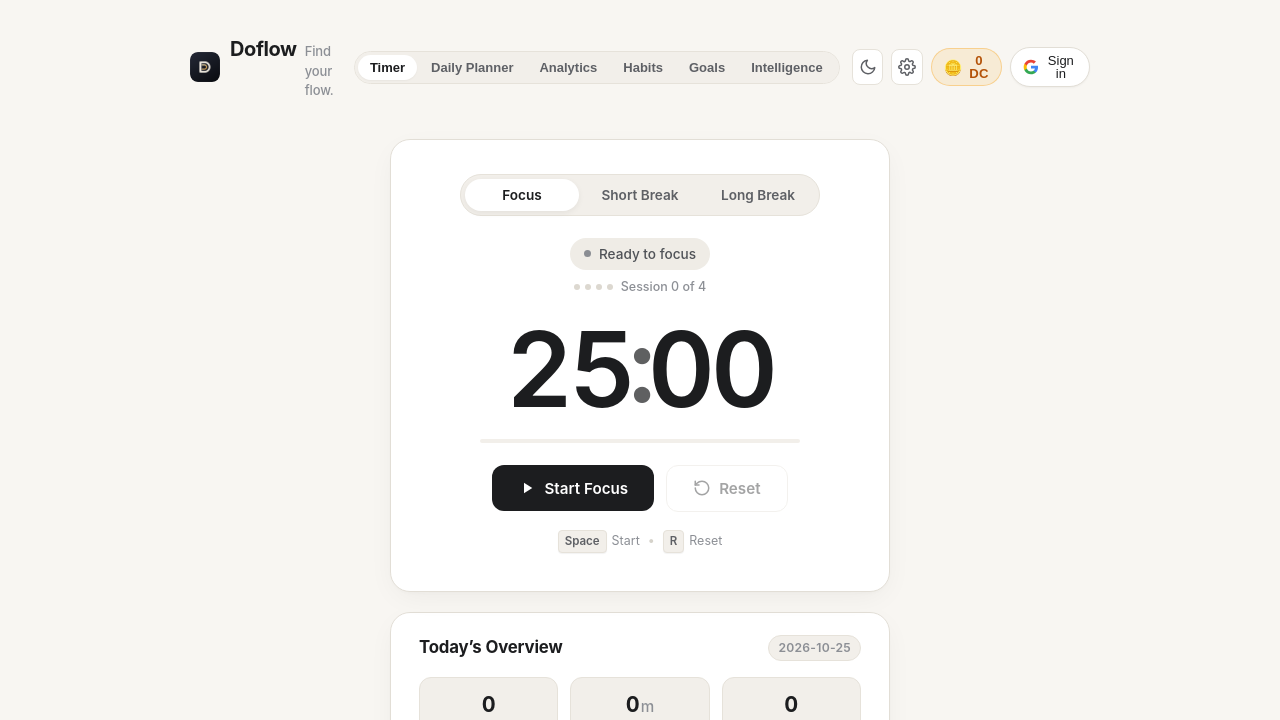
Scenario: Final Quality Assurance Audit Suite › 1. verifies focus timer full lifecycle (accuracy, pause, resume, reset, exact completion)
Expected: the element with test id "countdown-display" reads "25 : 00", [506,317,774,421]
Click the button with test id "start-button": (573, 488) [492,465,654,511]
Wait 10000 ms
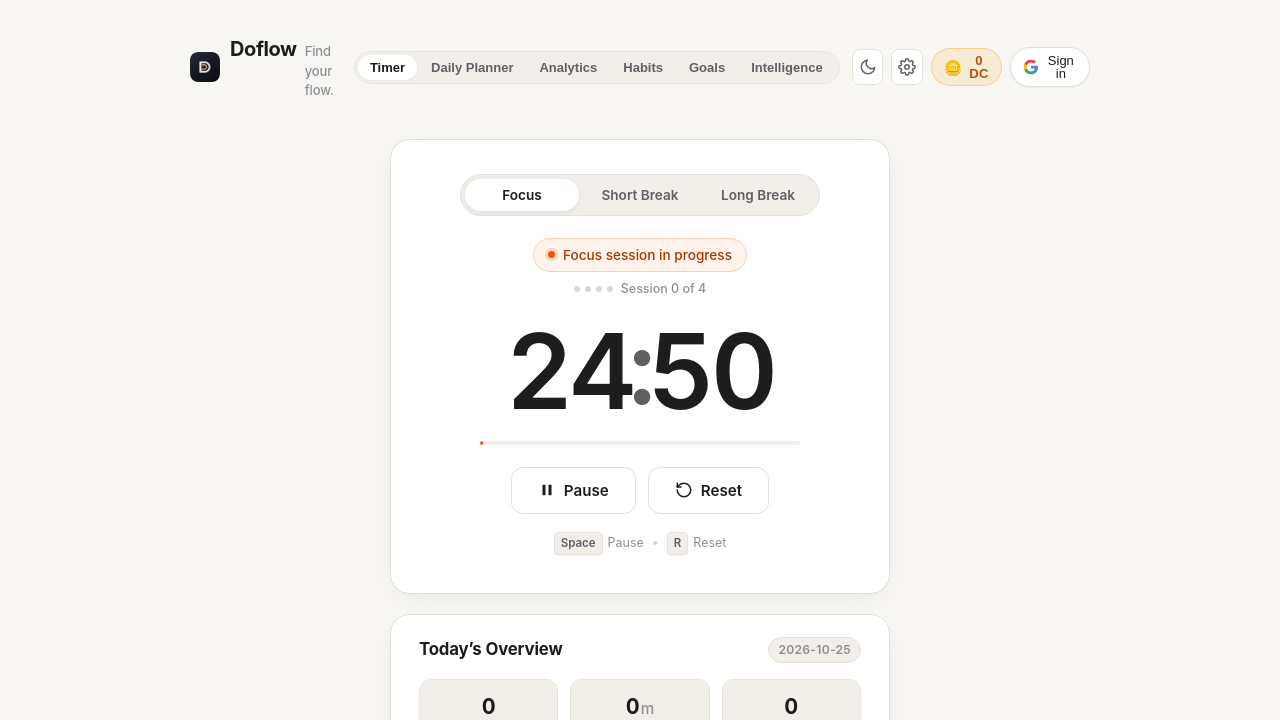
Now the element with test id "countdown-display" reads "24 : 50", box [506,319,774,423]
Click the button with test id "pause-button": (573, 490) [511,467,636,514]
Wait 5000 ms
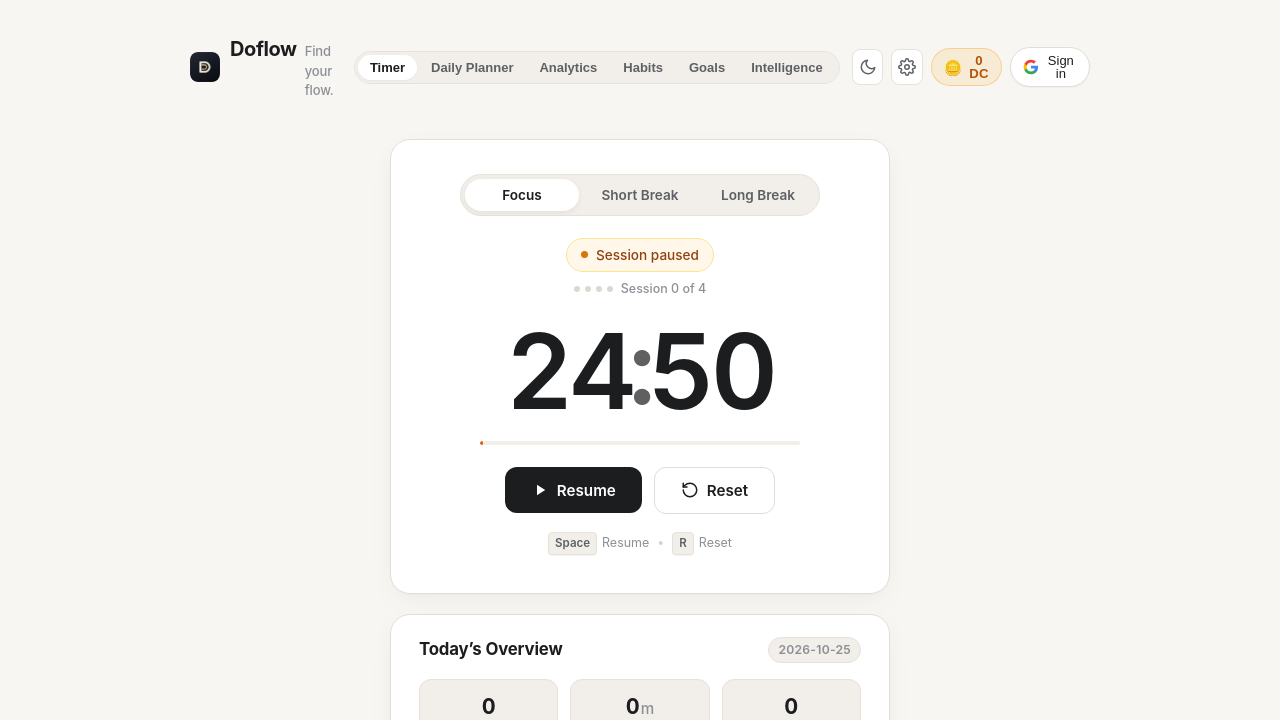
Now the element with test id "countdown-display" reads "24 : 50", box [506,319,774,423]
Click the button with test id "resume-button": (573, 490) [505,467,642,513]
Wait 5000 ms
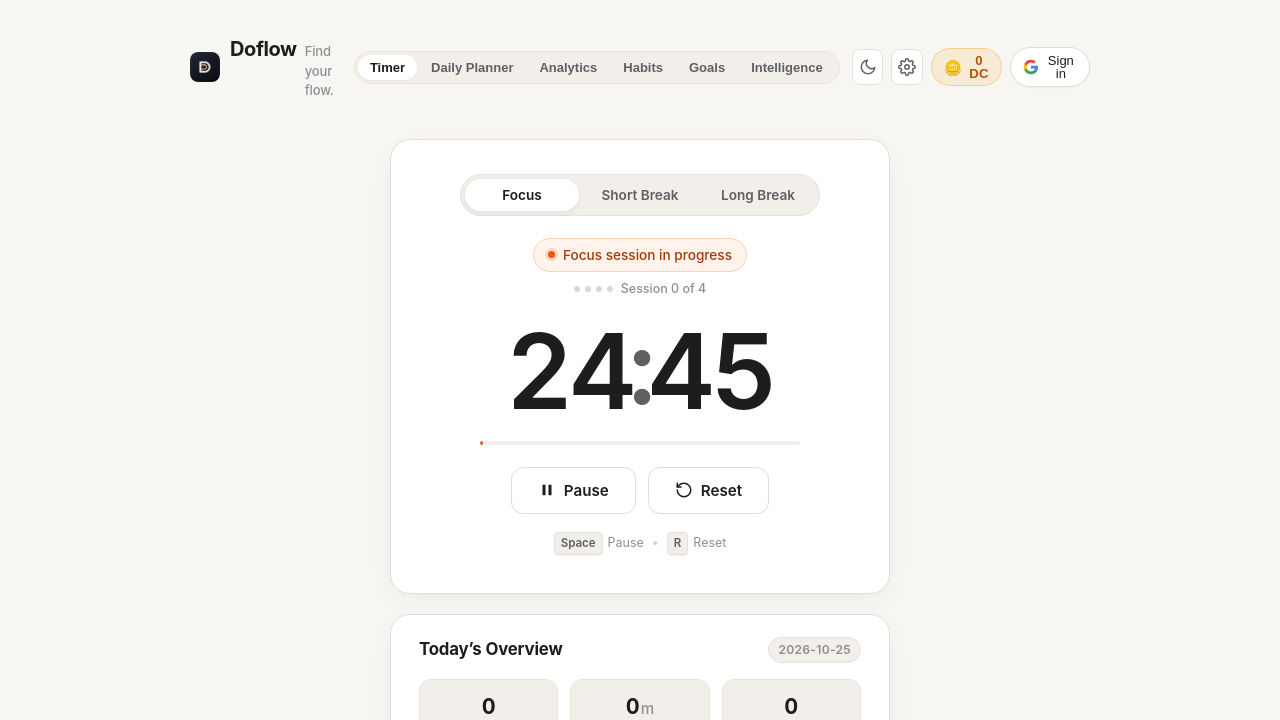
Now the element with test id "countdown-display" reads "24 : 45", box [506,319,774,423]
Click the button with test id "reset-button": (708, 490) [648,467,769,514]
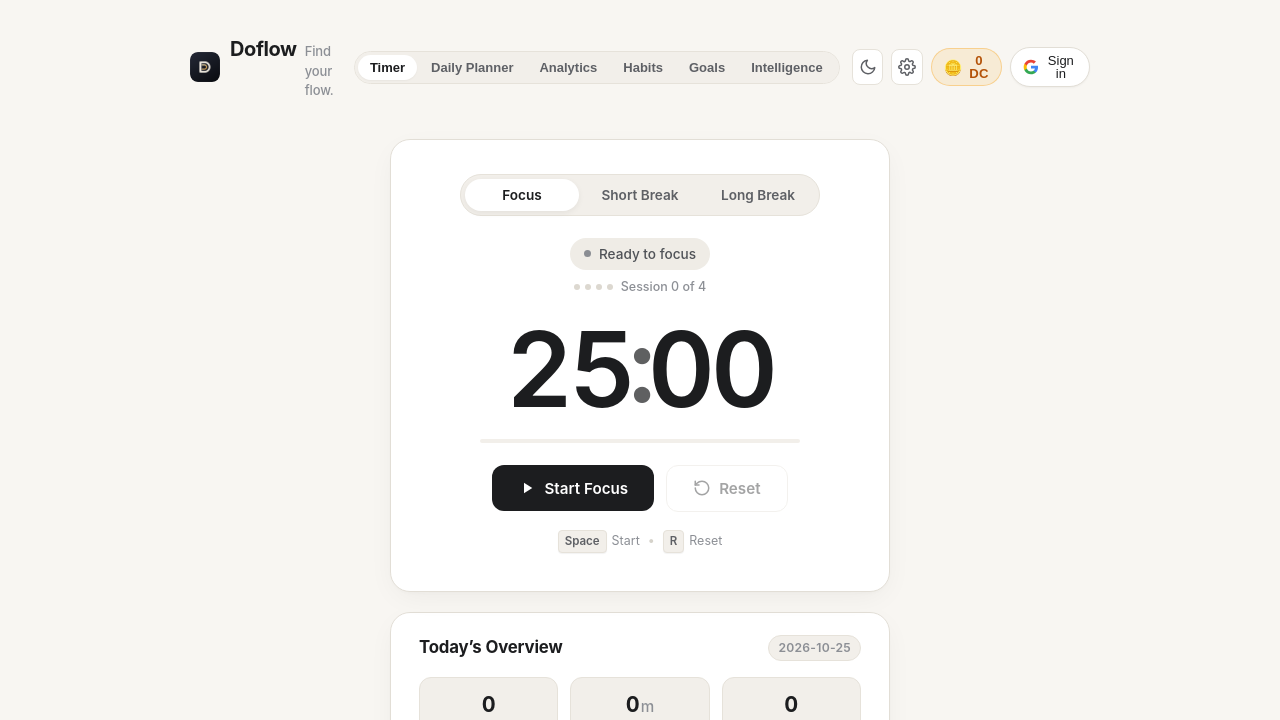
Now the element with test id "countdown-display" reads "25 : 00", box [506,317,774,421]
Now the button with test id "reset-button" is disabled, box [666,465,788,512]
